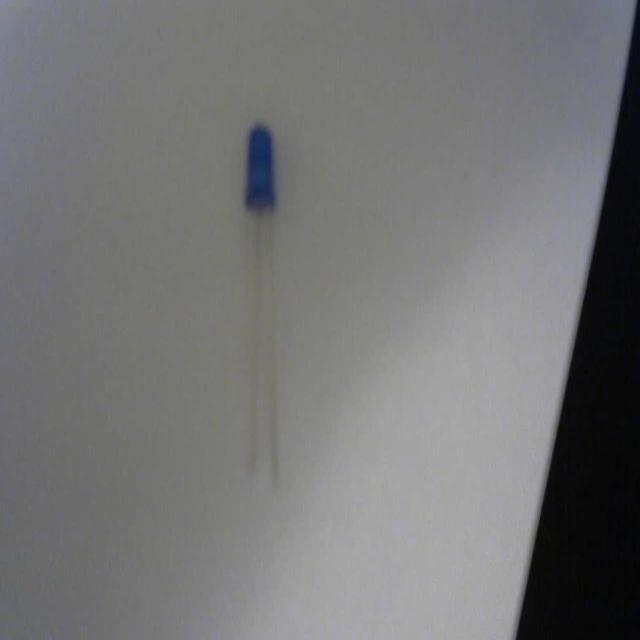blue_led: (244, 122, 276, 212)
